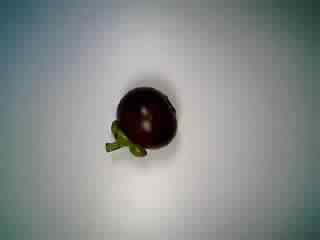mangosteen: (101, 83, 182, 160)
